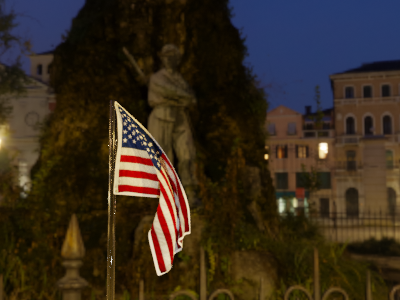America flag: (114, 100, 193, 278)
